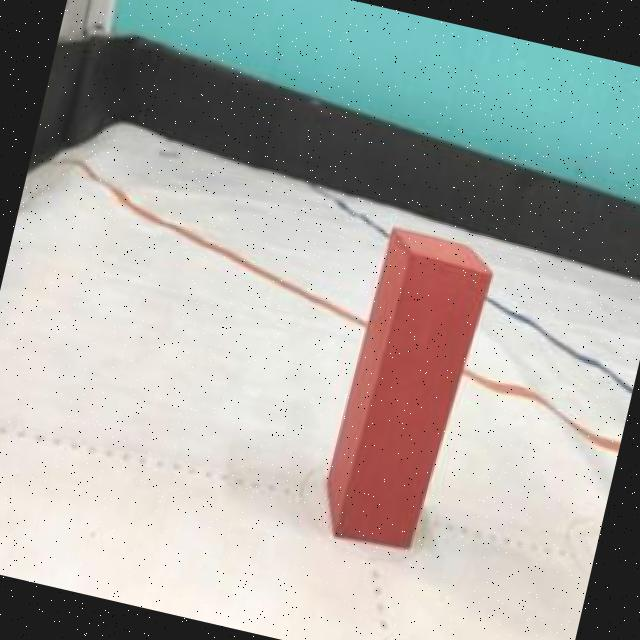redbox: (315, 222, 498, 558)
